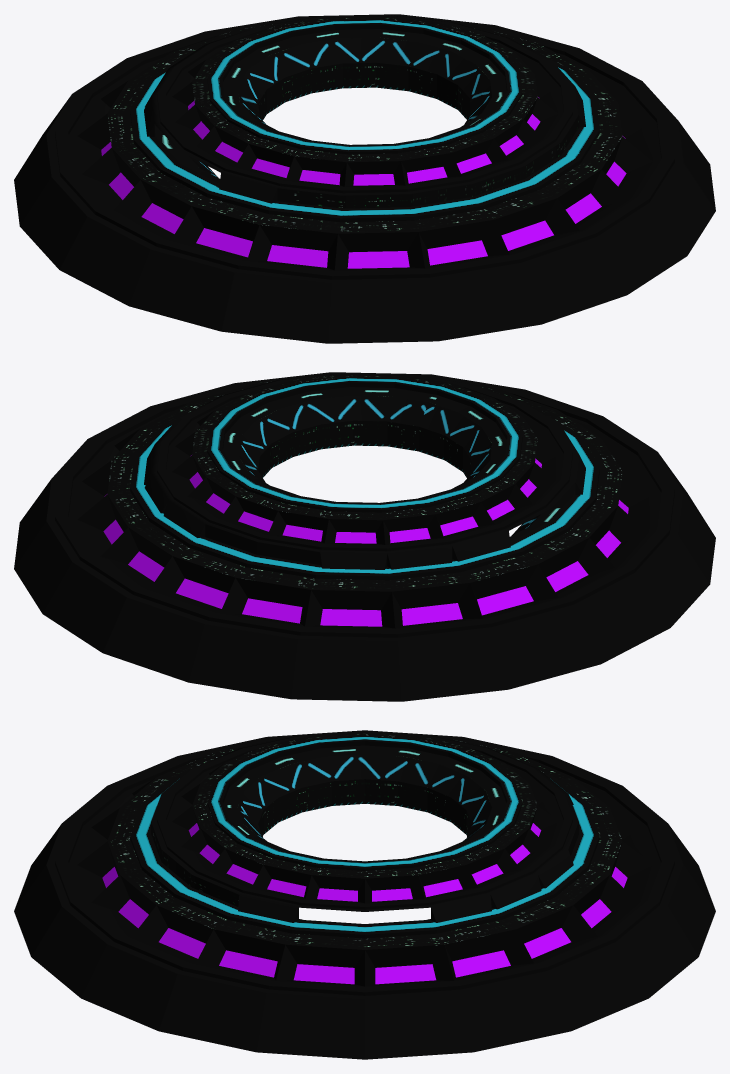
The model's file is Top_Ring_Art.fbx.
3 renders of one model, top to bottom at view 1: azimuth 30°, elevation 25°; view 2: azimuth 150°, elevation 25°; view 3: azimuth 270°, elevation 25°, orthographic.
Visible parts, largest first — view 1: Top_Ring; view 2: Top_Ring; view 3: Top_Ring.
Part boxes in pixels (box(x1,y1,x2,y2)): Top_Ring: box(14, 14, 715, 343); Top_Ring: box(14, 372, 715, 701); Top_Ring: box(14, 730, 715, 1059).
Size of the model in its own units: 4.06 by 0.7025 by 4.06.
